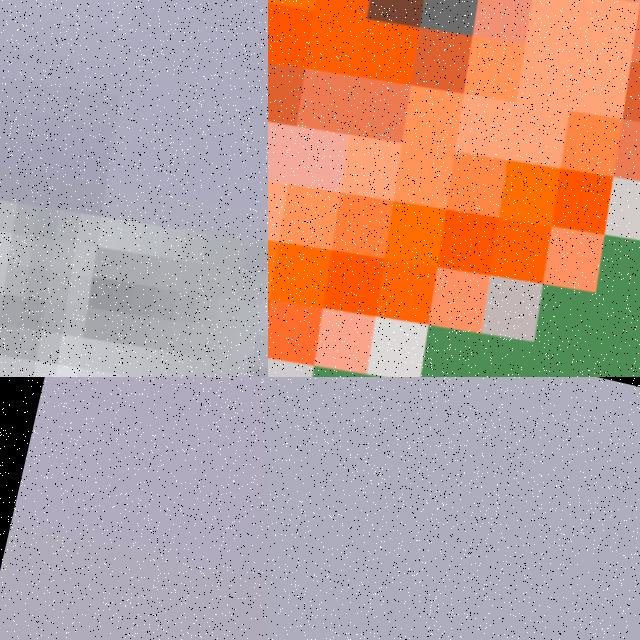0: (0, 0, 268, 377)
drone: (268, 0, 640, 377)
